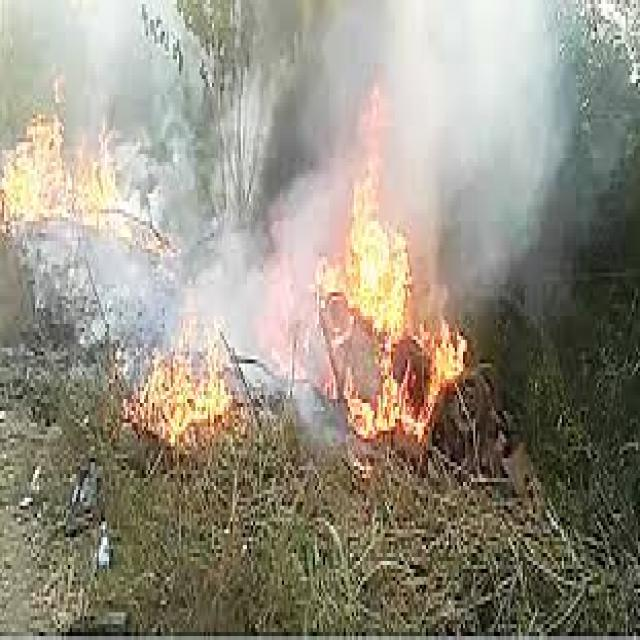fire: (2, 67, 119, 233), (339, 91, 414, 340), (334, 332, 474, 462), (122, 344, 235, 450)
smoke: (117, 55, 340, 348), (400, 4, 582, 328)
